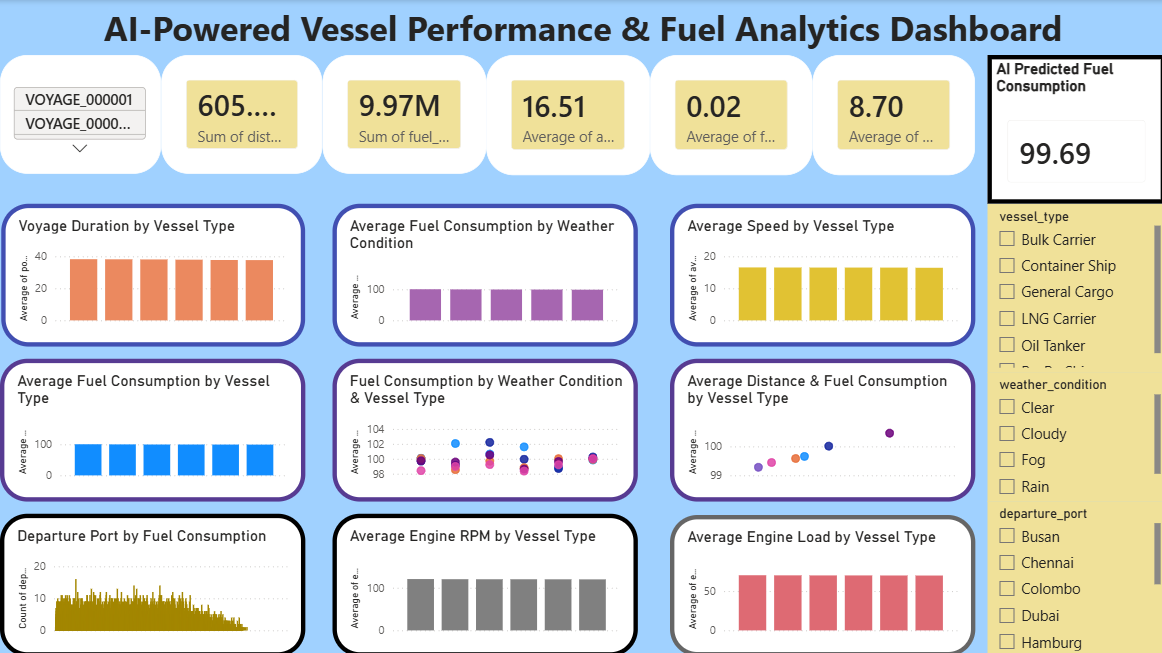

The dashboard page shown, as its layout file describes it:
{"tool":"powerbi","page":{"name":"Page 1","canvas":[1280,720],"ordinal":0},"visuals":[{"type":"textbox","box":[0,0,1280.3,60.4],"z":1},{"type":"cardVisual","fields":{"Rows":["Sheet1.voyage_id"]},"box":[0,60.4,177,130.4],"z":2},{"type":"cardVisual","fields":{"Data":["Sum(Sheet1.distance_nm)"]},"box":[177,60.4,177,130.4],"z":3},{"type":"cardVisual","fields":{"Data":["Sum(Sheet1.fuel_consumption_tons)"]},"box":[354,60.4,179.8,130.4],"z":4},{"type":"cardVisual","fields":{"Data":["Avg(Sheet1.avg_speed_knots)"]},"box":[533.8,60.4,179.8,131.7],"z":5},{"type":"cardVisual","fields":{"Data":["Avg(Sheet1.fuel_efficiency)"]},"box":[713.6,60.4,178.4,131.7],"z":6},{"type":"cardVisual","fields":{"Data":["Avg(Sheet1.delay_hours)"]},"box":[891.9,60.4,178.4,131.7],"z":7},{"type":"clusteredColumnChart","title":"Average Fuel Consumption by Vessel Type","fields":{"Category":["Sheet1.vessel_type"],"Y":["Avg(Sheet1.fuel_consumption_tons)"]},"box":[0,393.8,334.8,156.4],"z":8},{"type":"clusteredColumnChart","title":"Average Fuel Consumption by Weather Condition","fields":{"Category":["Sheet1.weather_condition"],"Y":["Avg(Sheet1.fuel_consumption_tons)"]},"box":[365,223.7,334.8,156.4],"z":10},{"type":"clusteredColumnChart","title":"Average Speed by Vessel Type","fields":{"Category":["Sheet1.vessel_type"],"Y":["Avg(Sheet1.avg_speed_knots)"]},"box":[735.5,223.7,334.8,156.4],"z":11},{"type":"clusteredColumnChart","title":"Departure Port by Fuel Consumption","fields":{"Y":["CountNonNull(Sheet1.departure_port)"],"Category":["Sheet1.fuel_consumption_tons"]},"box":[0,564,334.8,156.4],"z":12},{"type":"slicer","fields":{"Values":["Sheet1.vessel_type"]},"box":[1084.1,223.7,196.2,185.2],"z":13},{"type":"slicer","fields":{"Values":["Sheet1.weather_condition"]},"box":[1084.1,408.9,196.2,141.3],"z":14},{"type":"slicer","fields":{"Values":["Sheet1.departure_port"]},"box":[1084.1,550.3,196.2,168.8],"z":15},{"type":"scatterChart","title":"Average Distance & Fuel Consumption by Vessel Type","fields":{"X":["Avg(Sheet1.distance_nm)"],"Y":["Avg(Sheet1.fuel_consumption_tons)"],"Series":["Sheet1.vessel_type"]},"box":[735.5,393.8,334.8,156.4],"z":16},{"type":"scatterChart","title":"Fuel Consumption by Weather Condition & Vessel Type","fields":{"X":["Sheet1.vessel_type"],"Y":["Avg(Sheet1.fuel_consumption_tons)"],"Series":["Sheet1.weather_condition"]},"box":[365,393.8,334.8,156.4],"z":17},{"type":"clusteredColumnChart","title":"Average Engine Load by Vessel Type","fields":{"Category":["Sheet1.vessel_type"],"Y":["Avg(Sheet1.engine_load_percent)"]},"box":[735.5,565.4,334.8,155.1],"z":18},{"type":"clusteredColumnChart","title":"Average Engine RPM by Vessel Type","fields":{"Category":["Sheet1.vessel_type"],"Y":["Avg(Sheet1.engine_rpm)"]},"box":[365,564,334.8,156.4],"z":19},{"type":"clusteredColumnChart","title":"Voyage Duration by Vessel Type","fields":{"Category":["Sheet1.vessel_type"],"Y":["Avg(Sheet1.port_stay_hours)"]},"box":[1.4,223.7,333.4,156.4],"z":21},{"type":"cardVisual","title":"AI Predicted Fuel Consumption ","fields":{"Data":["Avg(fuel_predictions.predicted_fuel_consumption_tons)"]},"box":[1084.1,60.4,196.2,163.3],"z":22}]}

Visuals, with their boxes in screenshot pixels (x1, y1, x2, y2), scaled from the page's 1280x720 canvas onto the 1162x653 screenshot:
textbox: (0,0,1161,55)
cardVisual - Sheet1.voyage_id: (0,55,161,173)
cardVisual - Sum(Sheet1.distance_nm): (161,55,321,173)
cardVisual - Sum(Sheet1.fuel_consumption_tons): (321,55,485,173)
cardVisual - Avg(Sheet1.avg_speed_knots): (485,55,648,174)
cardVisual - Avg(Sheet1.fuel_efficiency): (648,55,810,174)
cardVisual - Avg(Sheet1.delay_hours): (810,55,972,174)
"Average Fuel Consumption by Vessel Type" clusteredColumnChart: (0,357,304,499)
"Average Fuel Consumption by Weather Condition" clusteredColumnChart: (331,203,635,345)
"Average Speed by Vessel Type" clusteredColumnChart: (668,203,972,345)
"Departure Port by Fuel Consumption" clusteredColumnChart: (0,512,304,652)
slicer - Sheet1.vessel_type: (984,203,1161,371)
slicer - Sheet1.weather_condition: (984,371,1161,499)
slicer - Sheet1.departure_port: (984,499,1161,652)
"Average Distance & Fuel Consumption by Vessel Type" scatterChart: (668,357,972,499)
"Fuel Consumption by Weather Condition & Vessel Type" scatterChart: (331,357,635,499)
"Average Engine Load by Vessel Type" clusteredColumnChart: (668,513,972,652)
"Average Engine RPM by Vessel Type" clusteredColumnChart: (331,512,635,652)
"Voyage Duration by Vessel Type" clusteredColumnChart: (1,203,304,345)
"AI Predicted Fuel Consumption " cardVisual: (984,55,1161,203)
